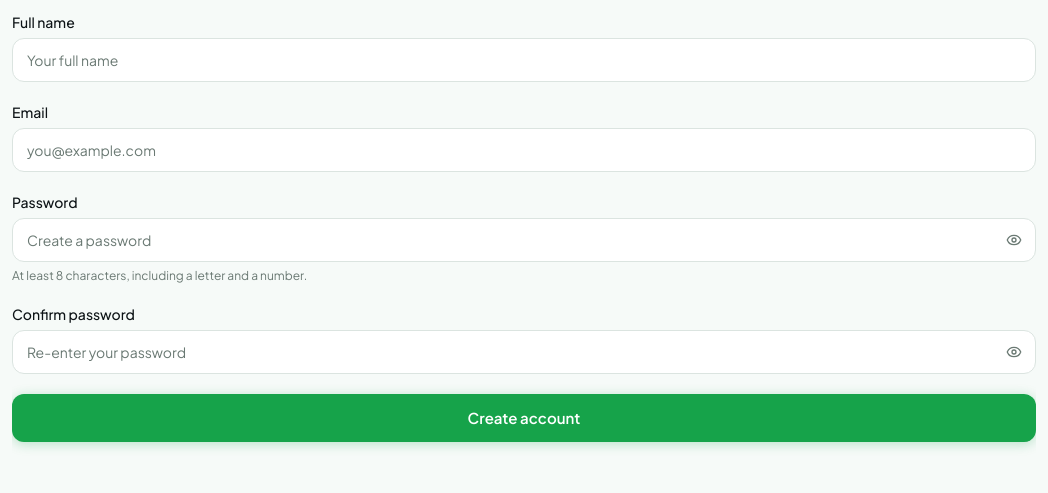
Test: RegisterForm › surfaces a server-side duplicate email error
This screenshot has width=1048, height=493.
Type "Ada Obi" into the field labelled "Full name" at (524, 60), box [12,38,1036,82]
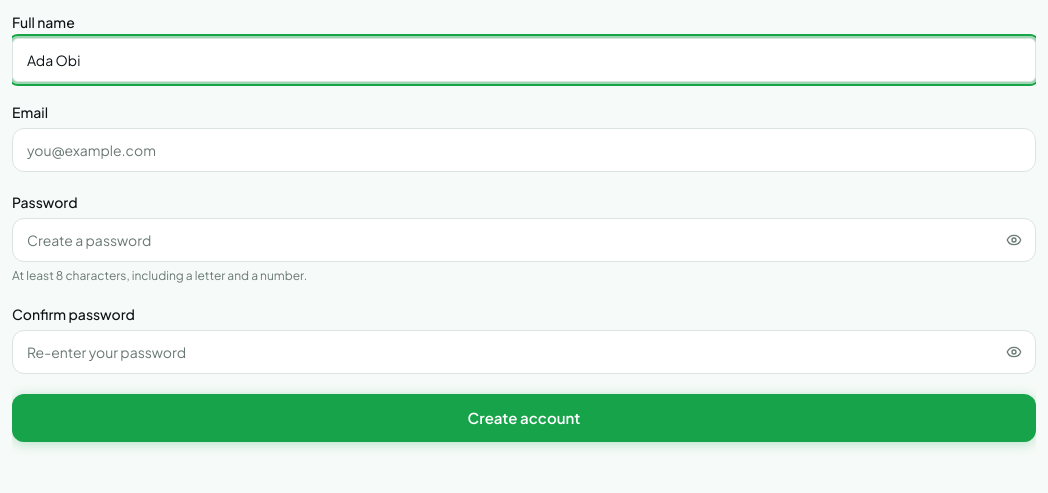
Type "ada@example.com" into the field labelled "Email" at (524, 150), box [12,128,1036,172]
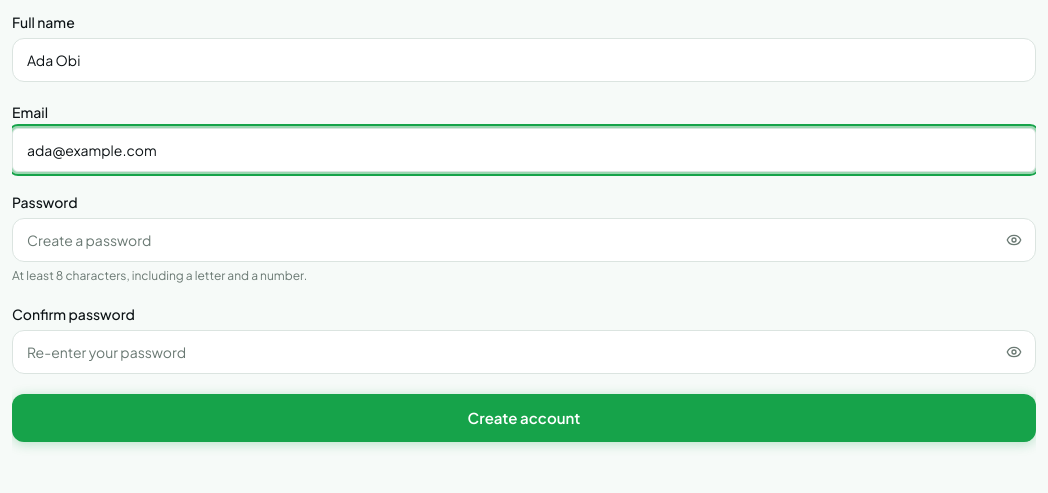
Type "secret123" into the password field labelled "Password" at (524, 240), box [12,218,1036,262]
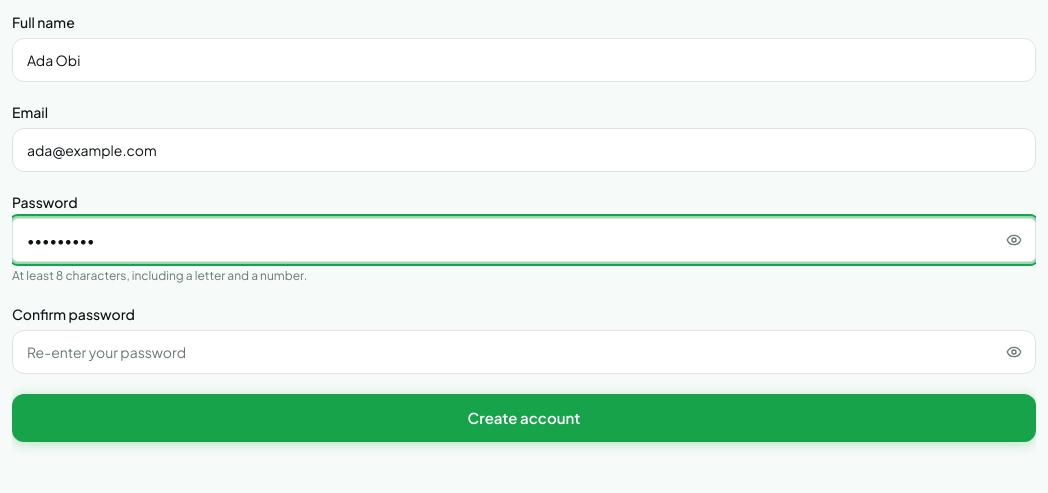
Type "secret123" into the password field labelled "Confirm password" at (524, 352), box [12,330,1036,374]
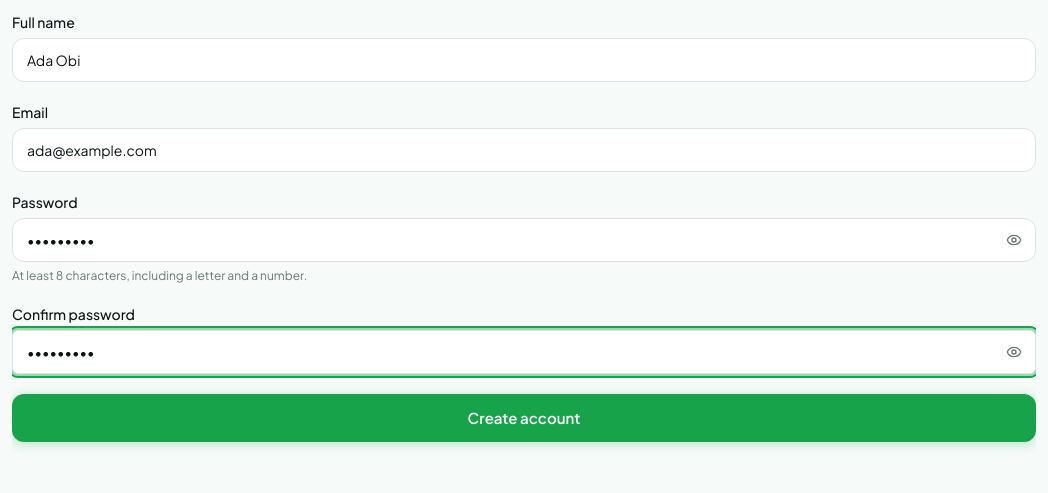
Click the button "Create account" at (524, 418), box [12,394,1036,442]
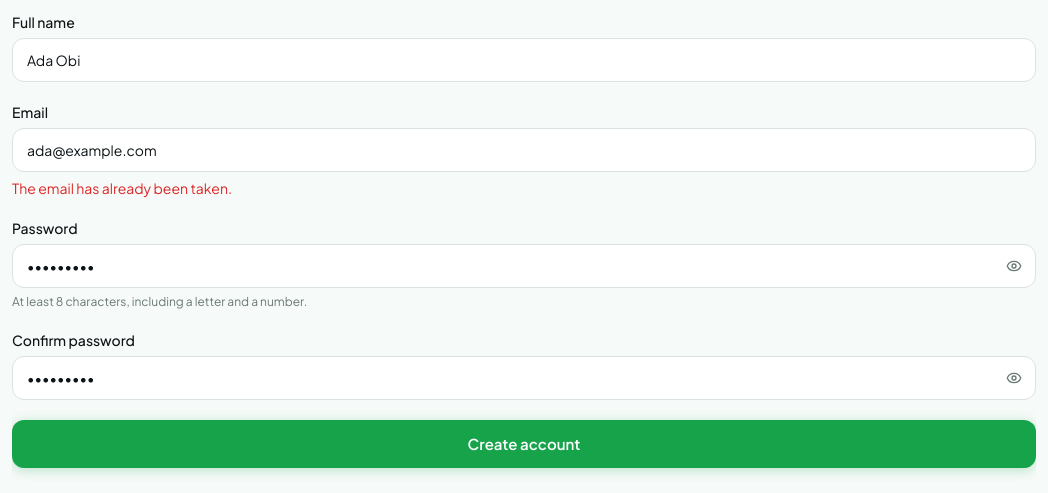
Check: the text "The email has already been taken." is shown, box [12,179,232,197]
